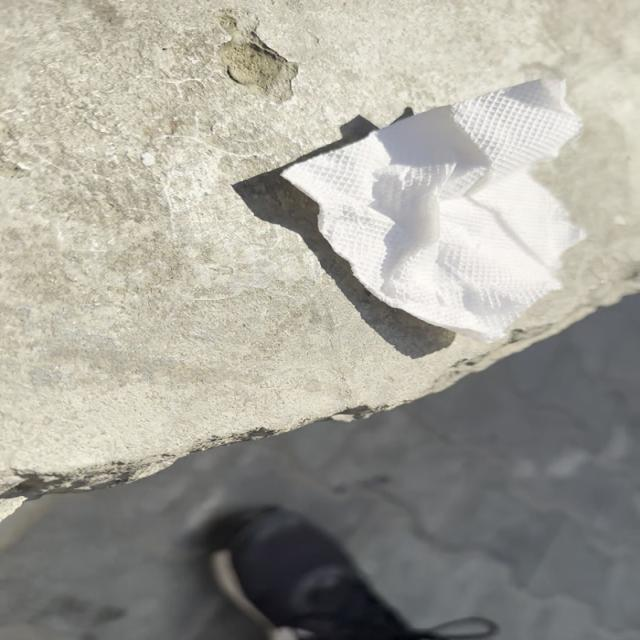tissue: (276, 75, 608, 339)
